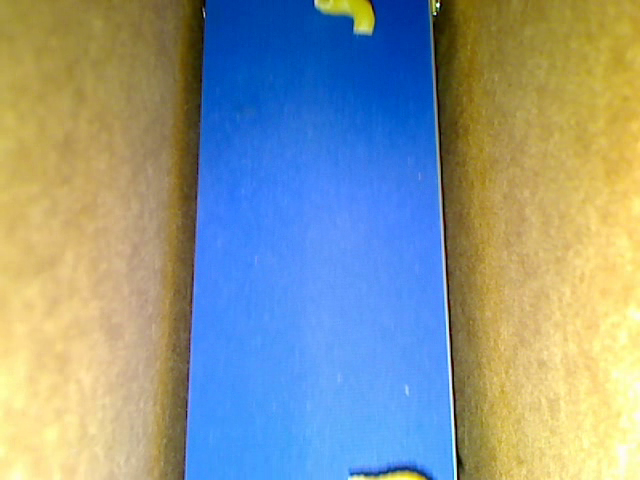elbow: (313, 1, 374, 36)
shell: (348, 469, 432, 479)
